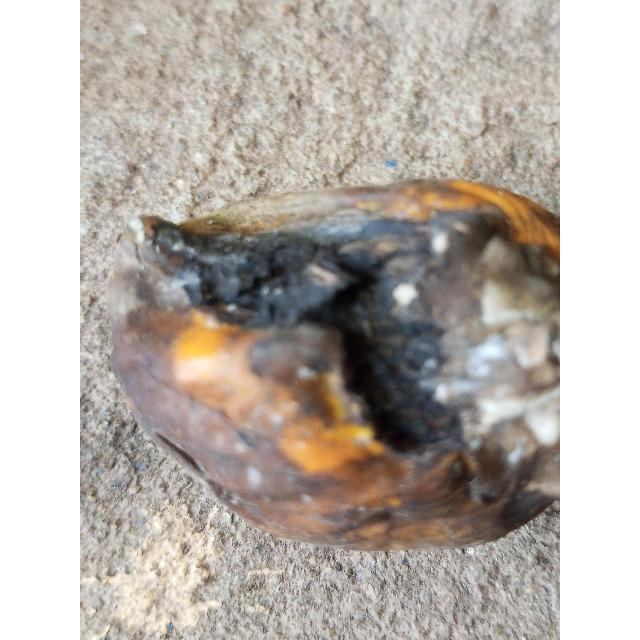damaged: (109, 178, 560, 557)
